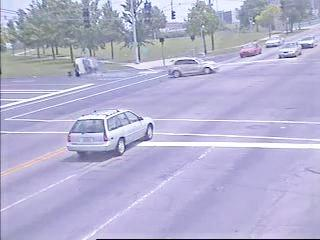Car: (66, 108, 157, 159), (168, 57, 222, 77), (72, 57, 100, 76), (278, 42, 302, 58), (240, 43, 262, 57), (297, 35, 317, 49), (265, 35, 285, 48)
Major Accident: (70, 54, 223, 78)
